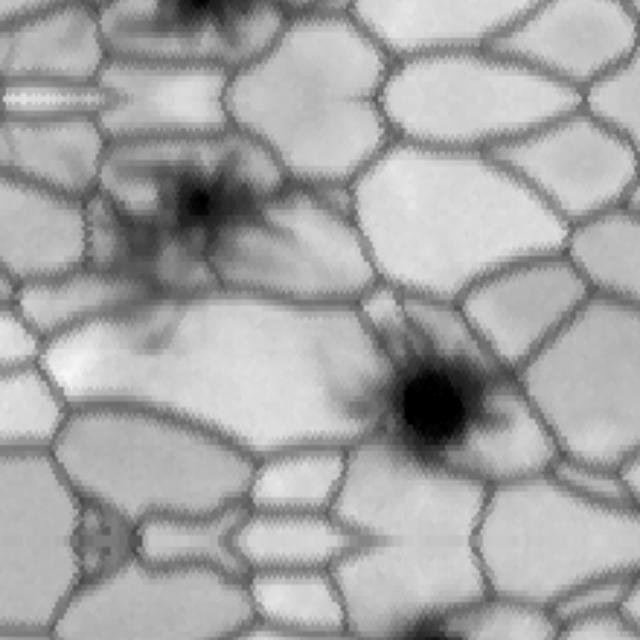good_void: (62, 130, 296, 381), (332, 299, 525, 480), (79, 0, 296, 66)
